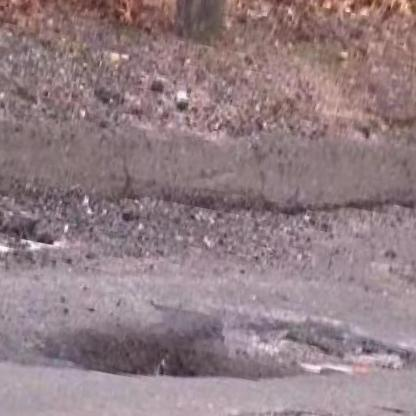pothole: (0, 316, 416, 375)
